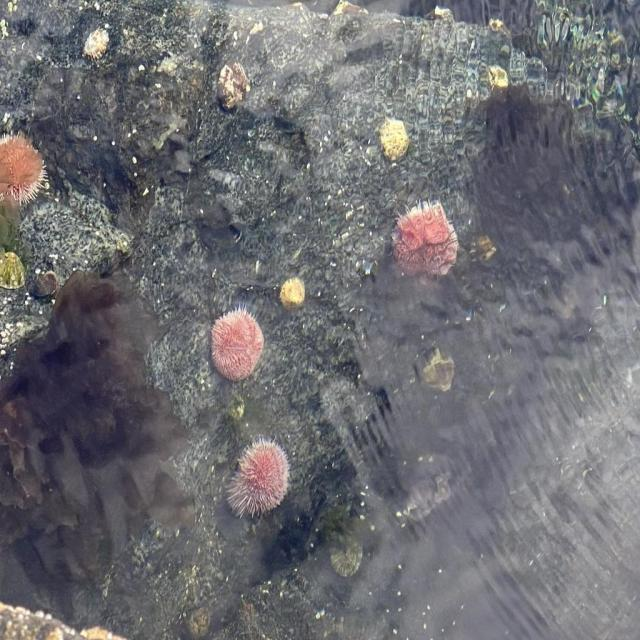Deniz Kestanesi: (392, 197, 458, 283), (226, 438, 289, 518), (211, 303, 264, 380), (0, 132, 47, 211)
